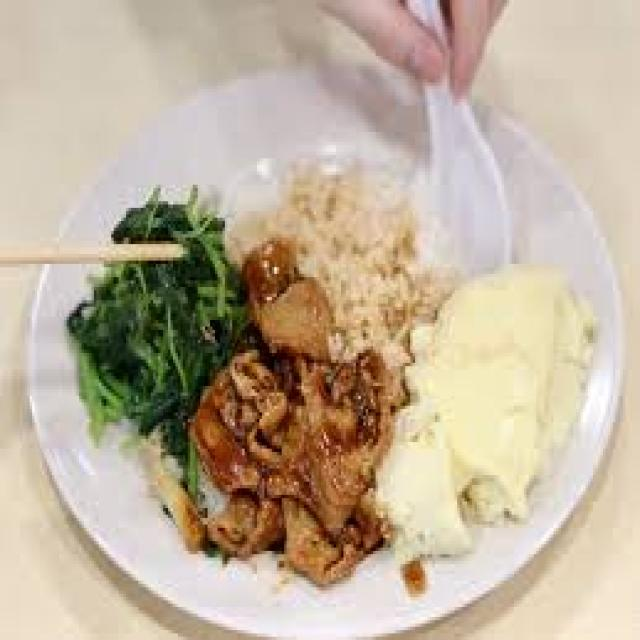Chicken: (190, 241, 403, 581)
Egg: (373, 264, 593, 561)
Green veg: (67, 188, 245, 495)
Rice: (225, 165, 457, 366)
